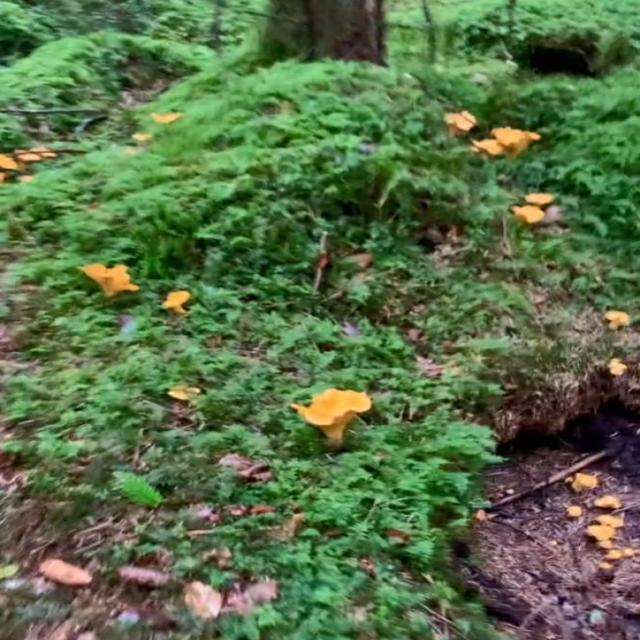chanterelle: (292, 390, 374, 452)
